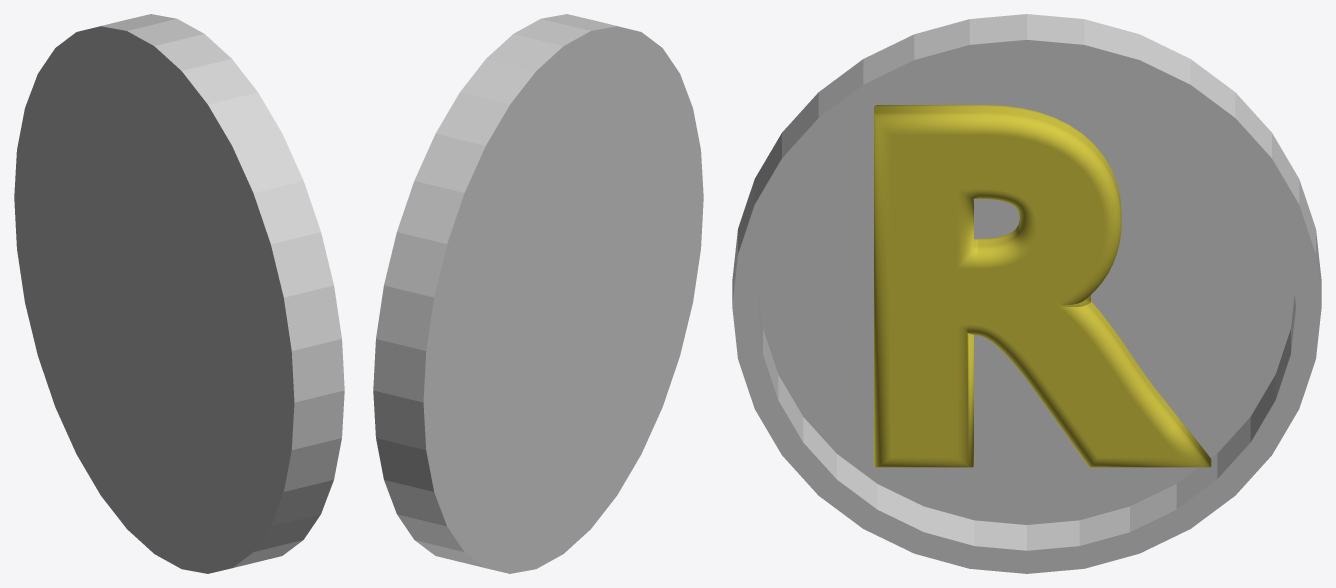
Rendered from Coin.fbx.
The picture shows the model from 3 angles, left to right: view 1: azimuth 30°, elevation 25°; view 2: azimuth 150°, elevation 25°; view 3: azimuth 270°, elevation 25°; orthographic projection. The views are drawn at different scales.
Visible parts, largest first — view 1: Text; view 2: Text; view 3: Text.
Part boxes in pixels (left/top/right/bottom): Text: left=14, top=14, right=344, bottom=573; Text: left=373, top=14, right=703, bottom=573; Text: left=732, top=14, right=1321, bottom=573.
Size of the model in its own units: 12.32 by 119 by 119.
